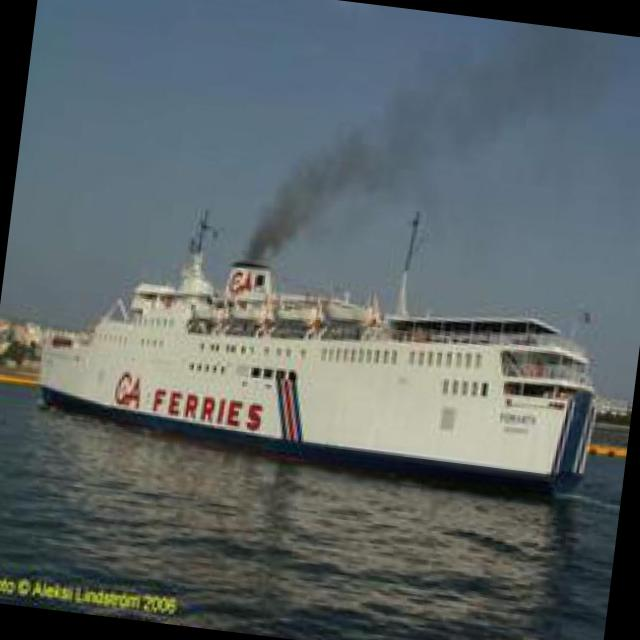boat: (17, 252, 604, 485)
